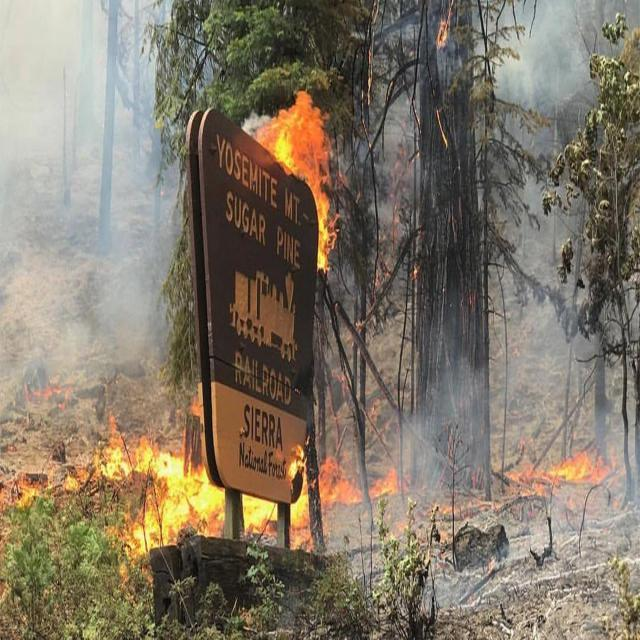Fire: (86, 384, 413, 567), (251, 85, 336, 273), (506, 432, 610, 498), (7, 452, 47, 524)
Smoke: (0, 24, 183, 382), (400, 246, 596, 501), (483, 0, 640, 111), (423, 551, 511, 616)
